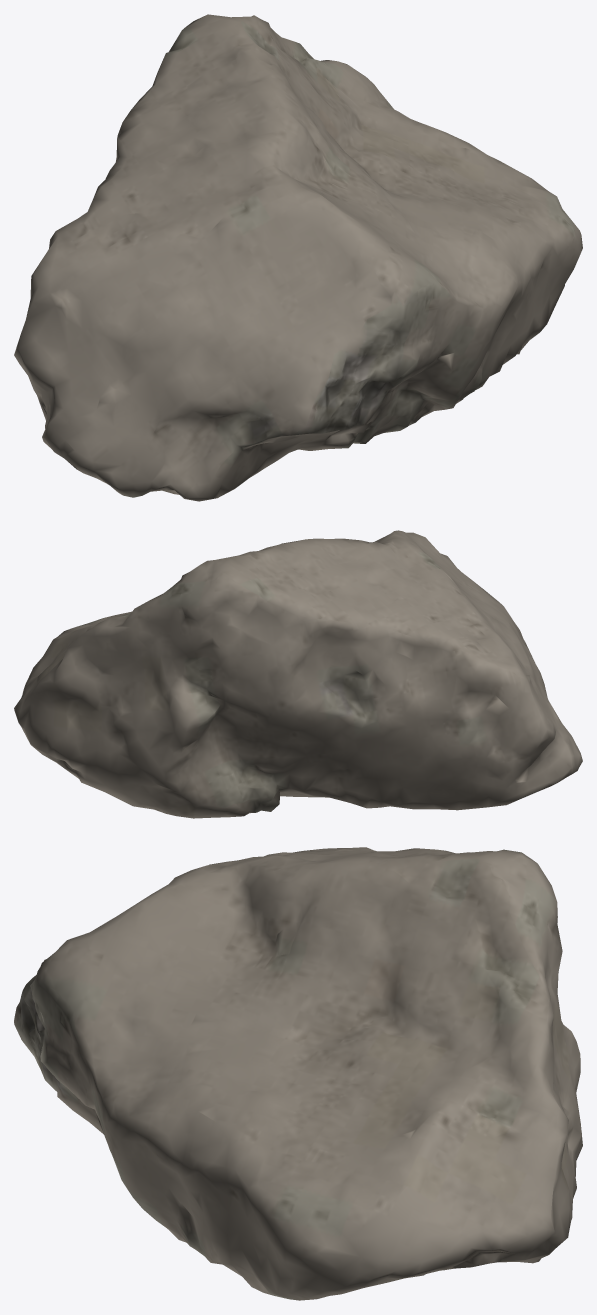
The model's file is moon_rock_03.glb.
3 views of the same model, one above another, from view 1: azimuth 30°, elevation 25°; view 2: azimuth 150°, elevation 25°; view 3: azimuth 270°, elevation 25° (orthographic). The views are drawn at different scales.
Parts seen in each view (by area): view 1: moon_rock_03_LOD0; view 2: moon_rock_03_LOD0; view 3: moon_rock_03_LOD0.
Boxes of the visible parts, bbox=[...] form: moon_rock_03_LOD0: bbox=[14, 14, 582, 501]; moon_rock_03_LOD0: bbox=[14, 530, 582, 818]; moon_rock_03_LOD0: bbox=[14, 847, 582, 1300].
Size of the model in its own units: 0.112 by 0.0582 by 0.0861.
Materials: 1 (1 with a texture image).
